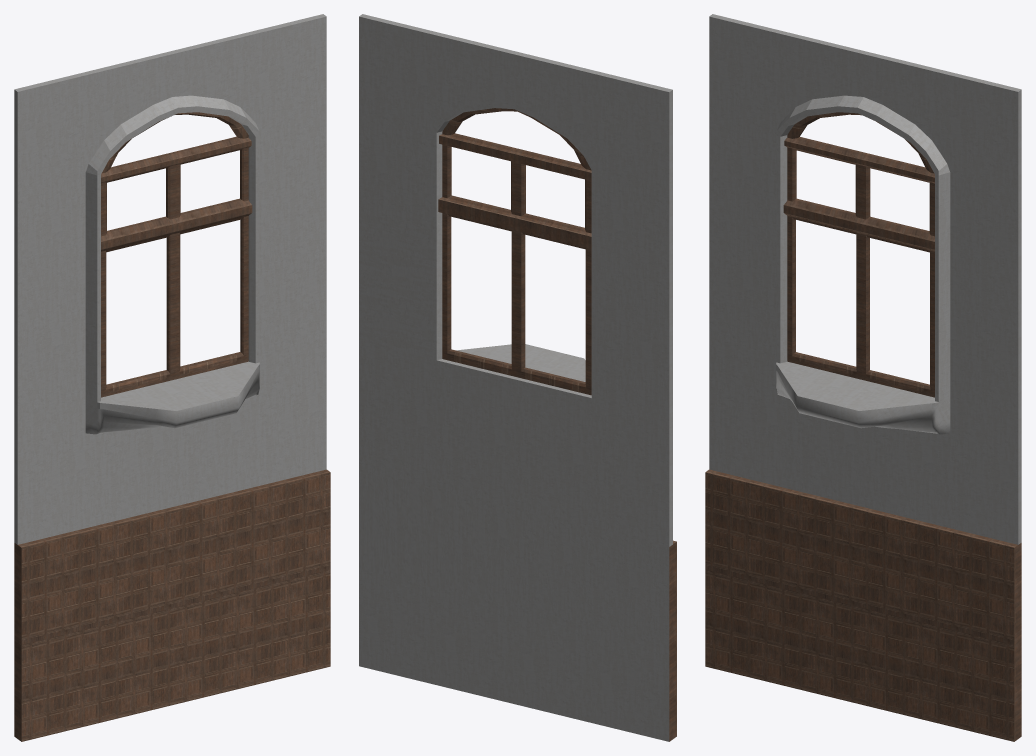
Rendered from Window10x5.fbx.
3 views of the same model, side by side, from view 1: azimuth 30°, elevation 25°; view 2: azimuth 150°, elevation 25°; view 3: azimuth 330°, elevation 25° (orthographic).
Parts seen in each view (by area): view 1: Wall10x5Window, WindowFrame; view 2: Wall10x5Window, WindowFrame; view 3: Wall10x5Window, WindowFrame.
Part boxes in pixels (x1,y1,x2,y2): Wall10x5Window: (14,14,330,741); WindowFrame: (101,112,252,397); Wall10x5Window: (359,14,676,741); WindowFrame: (438,108,591,395); Wall10x5Window: (705,14,1021,741); WindowFrame: (783,112,934,397).
Bounding box in the file's own units: 500 × 1000 × 112.
1 material, 1 textured.
